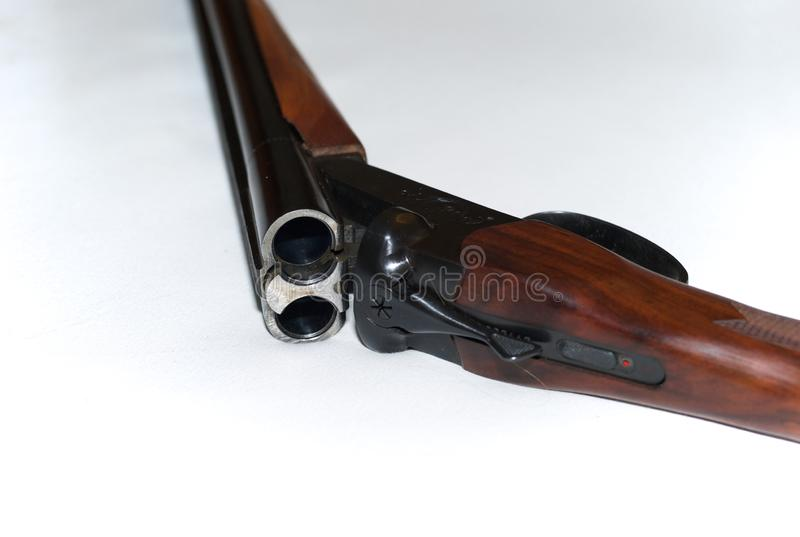weapon: (176, 2, 799, 444)
